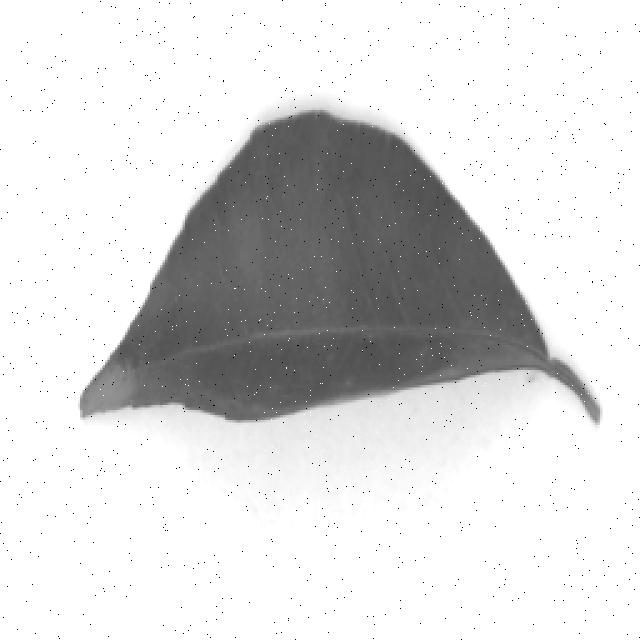healthy: (78, 99, 600, 481)
